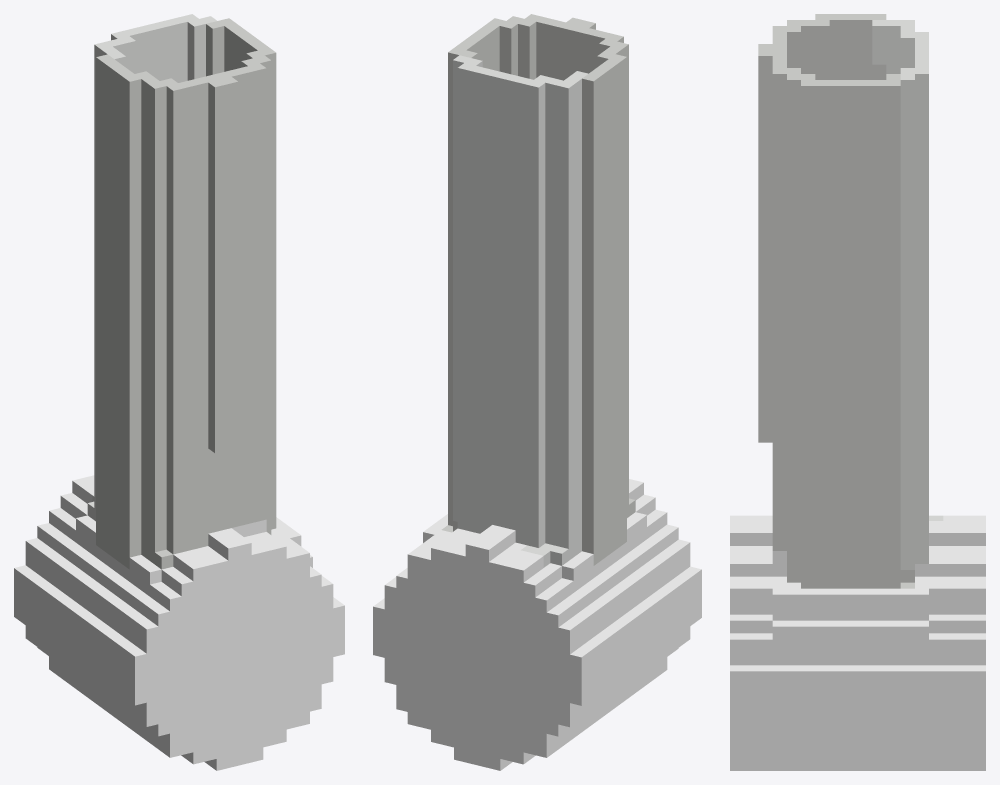
The model's file is pan2.FBX.
3 renders of one model, left to right at view 1: azimuth 30°, elevation 25°; view 2: azimuth 150°, elevation 25°; view 3: azimuth 270°, elevation 25°, orthographic. The views are drawn at different scales.
Visible parts, largest first — view 1: default006; view 2: default006; view 3: default006.
Boxes of the visible parts, <box> form: default006: <box>14,14,344,770</box>; default006: <box>373,14,701,770</box>; default006: <box>730,14,985,770</box>.
Size of the model in its own units: 359 by 1096 by 359.
